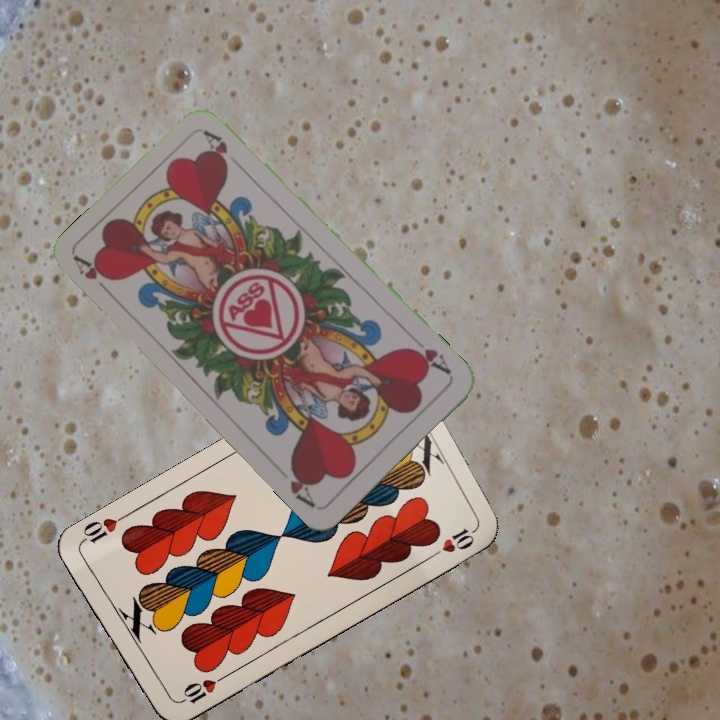H10: (172, 672, 227, 707)
HA: (71, 252, 117, 301), (404, 342, 454, 377)
